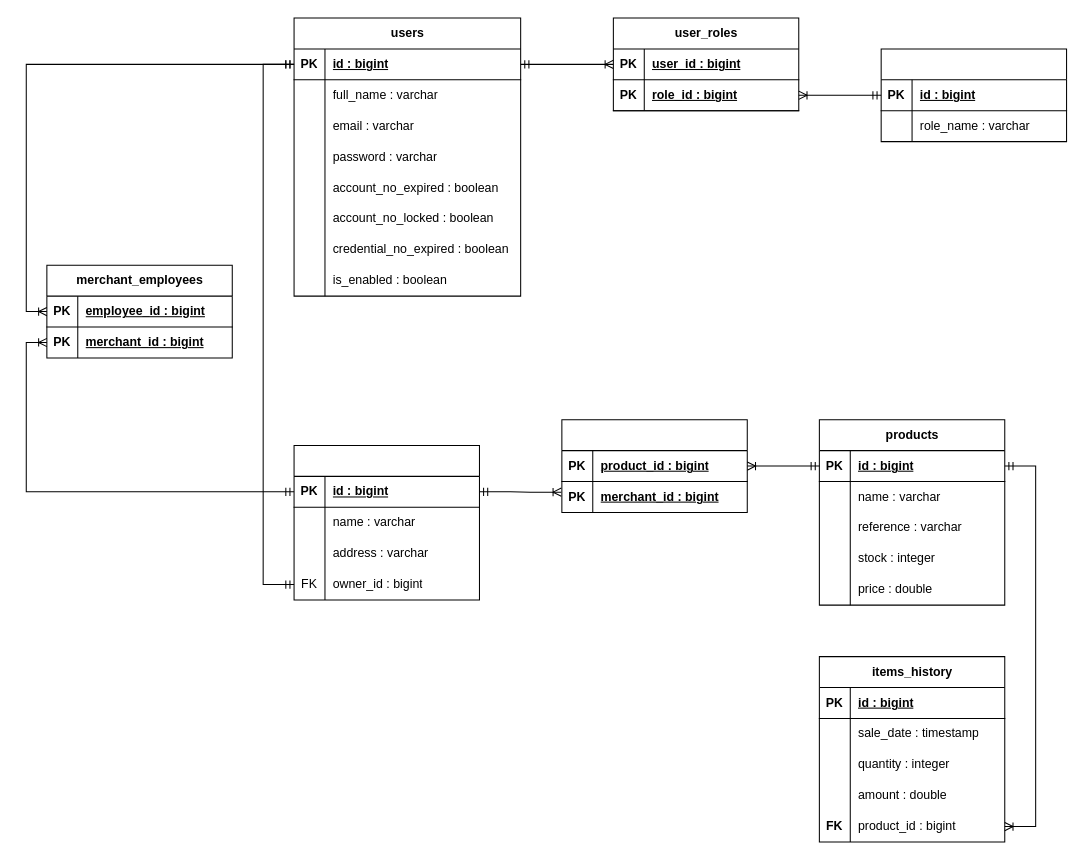
Image size: 1085x860. Some labels were removed from this diagram. The box of each missing label's shape, as (x1, y1, x2, y2) in pixels:
merchant_products: (561, 419, 747, 512)
merchants: (293, 444, 479, 600)
roles: (880, 48, 1067, 142)
